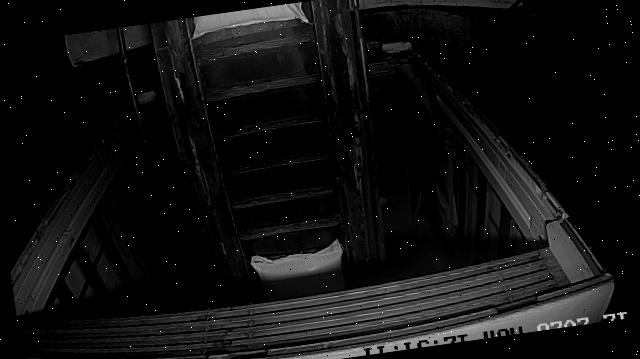bag: (250, 238, 347, 301), (188, 0, 309, 40)
